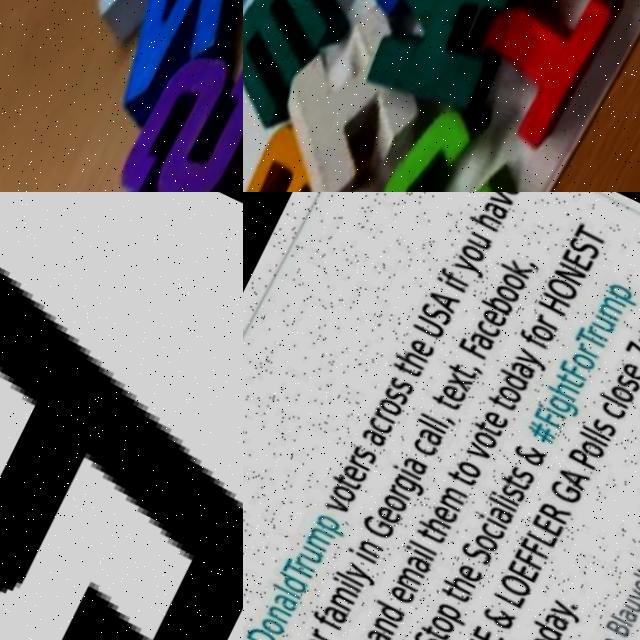3: (622, 343, 640, 367)
9: (0, 192, 243, 640)
C: (341, 83, 546, 192)
H: (243, 0, 460, 192), (56, 0, 243, 70)
K: (355, 0, 539, 131)
M: (243, 0, 361, 131)
